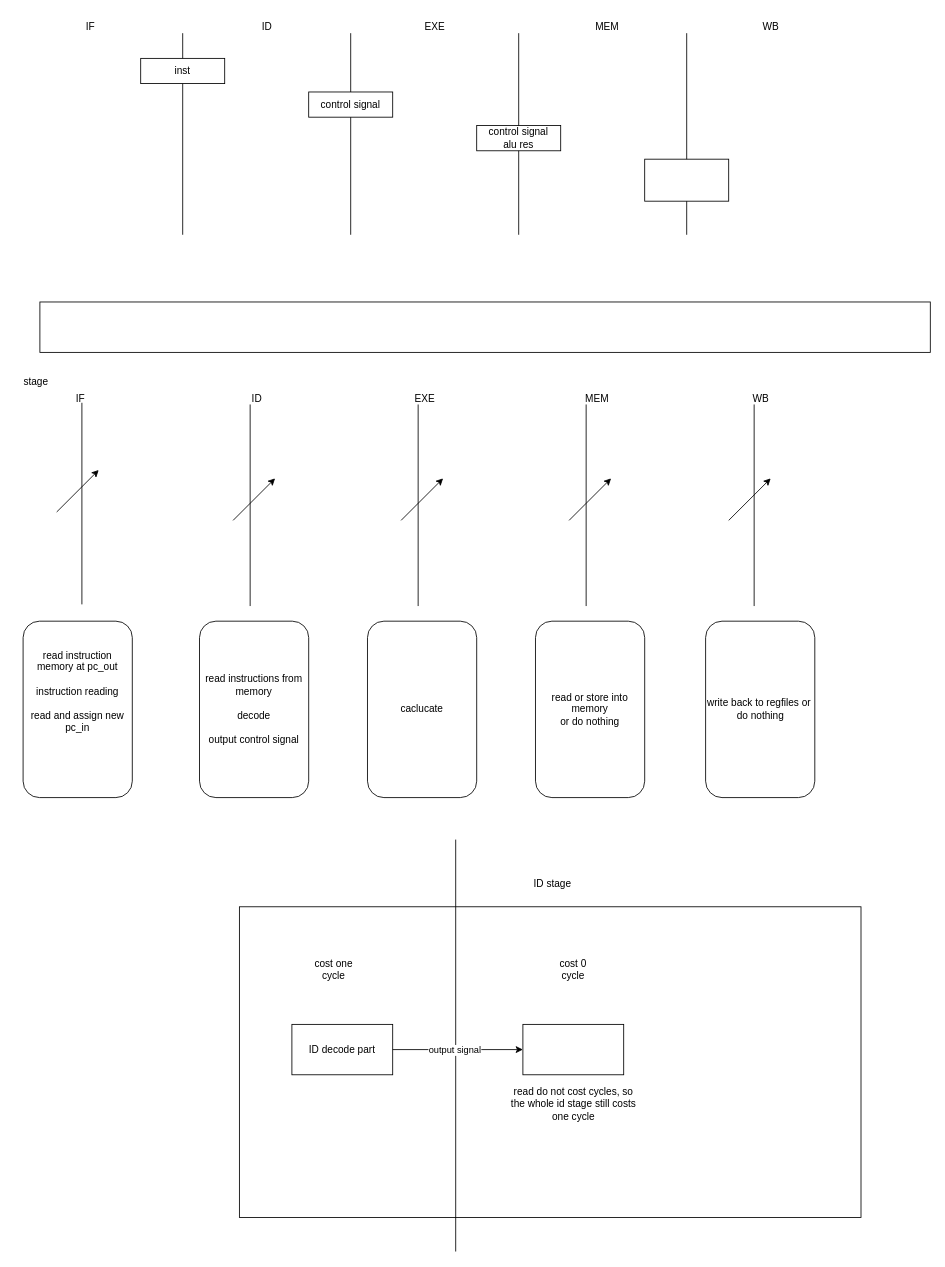
Some shapes in this 945 by 1267 pixel diagram are drawn without their labels. Here are the shapes that lost their labels. From the top down, the centre of each, then its label:
At point (686, 179): "control signal alu res mem_res".
At point (484, 326): "datapath".
At point (573, 1049): "regfile".
